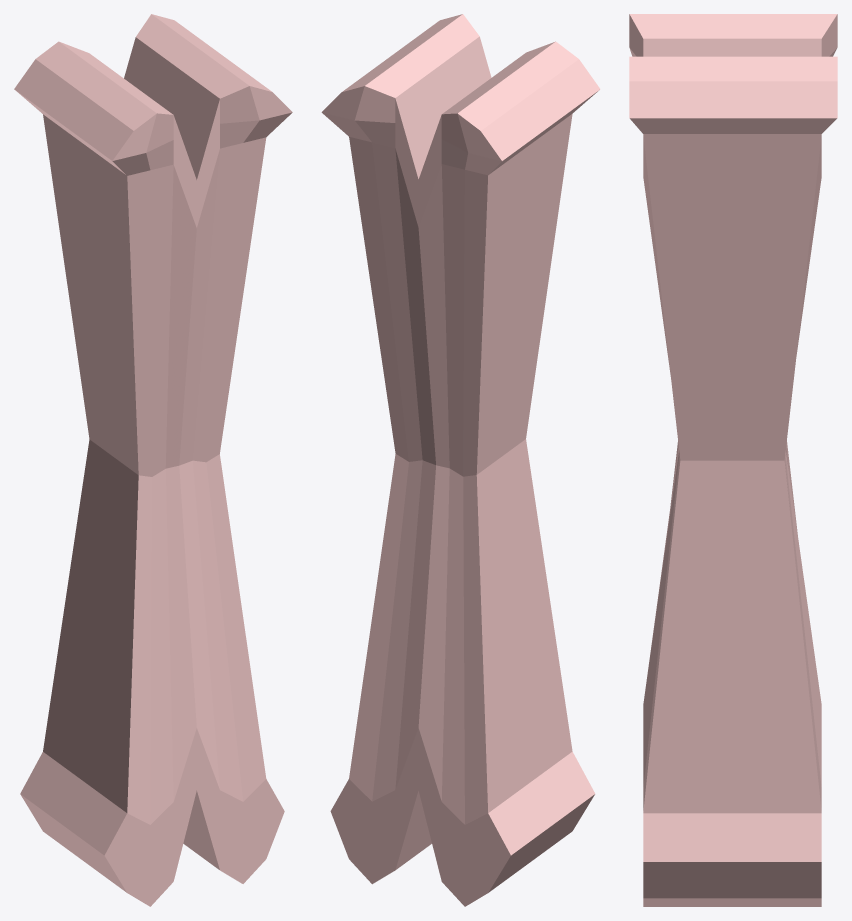
The model's file is Bone.glb.
3 views of the same model, side by side, from view 1: azimuth 30°, elevation 25°; view 2: azimuth 150°, elevation 25°; view 3: azimuth 270°, elevation 25° (orthographic). The views are drawn at different scales.
Visible parts, largest first — view 1: Bone; view 2: Bone; view 3: Bone.
Part boxes in pixels (x1,y1,x2,y2): Bone: [14, 14, 292, 906]; Bone: [321, 14, 600, 906]; Bone: [629, 14, 837, 906].
Bounding box in the file's own units: 0.269 × 1.13 × 0.2517.
